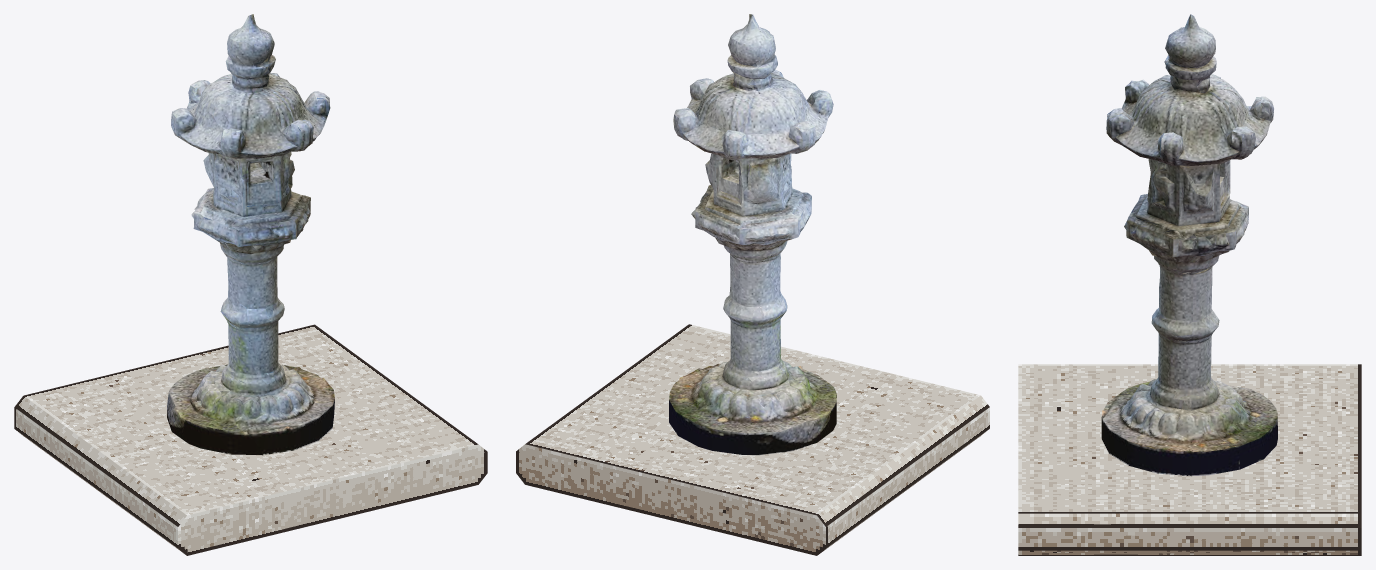
The model's file is toro.glb.
3 views of the same model, side by side, from view 1: azimuth 30°, elevation 25°; view 2: azimuth 150°, elevation 25°; view 3: azimuth 270°, elevation 25° (orthographic). The views are drawn at different scales.
Visible parts, largest first — view 1: base, model_m; view 2: base, model_m; view 3: base, model_m.
Boxes of the visible parts, box(x1,y1,x2,y2) form: base: box(14, 324, 487, 555); model_m: box(167, 14, 334, 455); base: box(516, 324, 989, 555); model_m: box(669, 14, 836, 455); base: box(1018, 364, 1361, 555); model_m: box(1101, 14, 1277, 476).
Bounding box in the file's own units: 24 × 33 × 22.
Materials: 2 (2 with a texture image).
